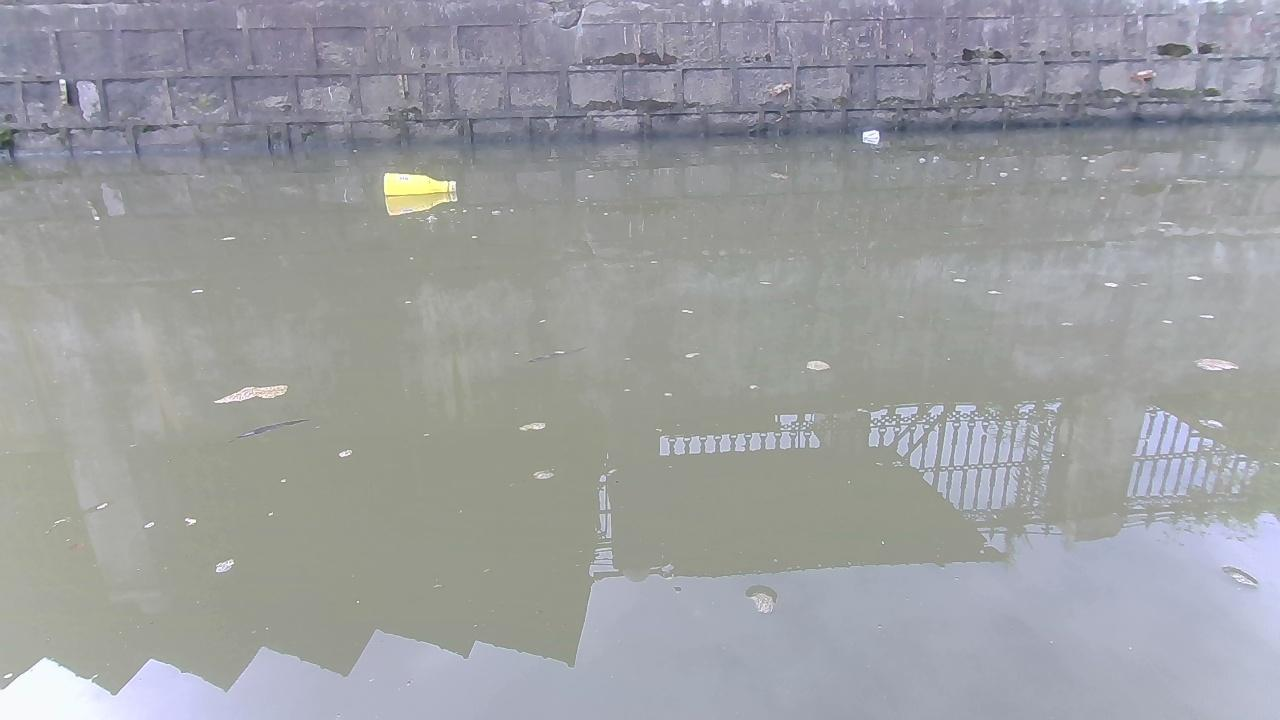bottle: (383, 166, 456, 196), (860, 123, 881, 144)
